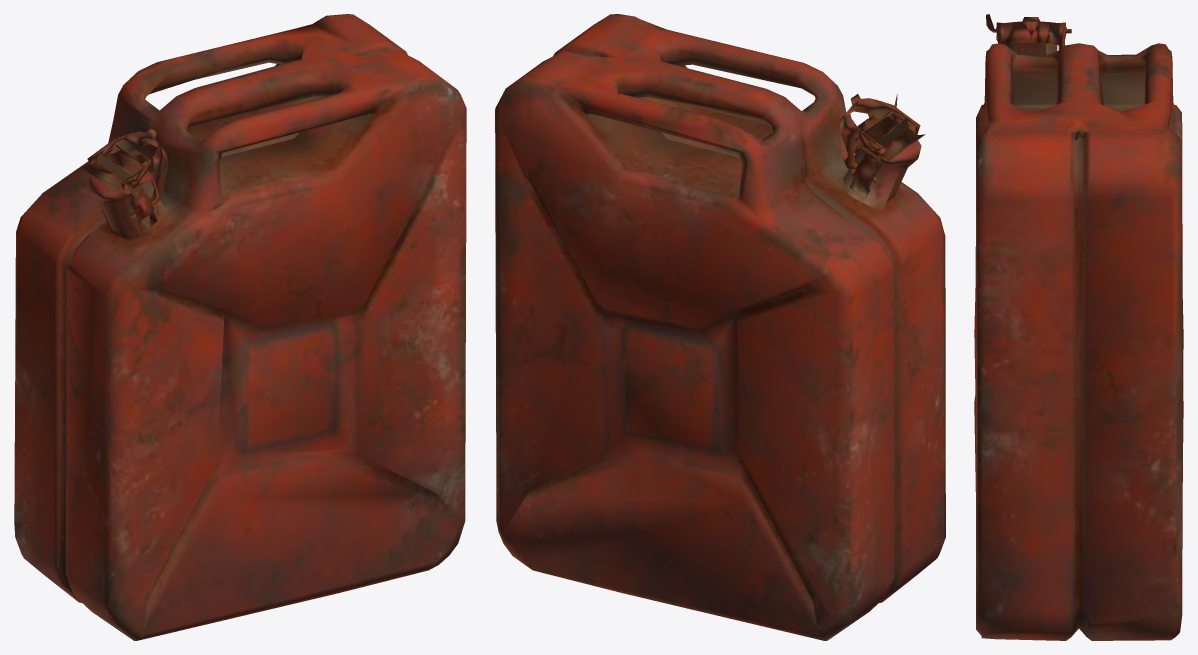
Rendered from jerrycan.glb.
3 renders of one model, left to right at view 1: azimuth 30°, elevation 25°; view 2: azimuth 150°, elevation 25°; view 3: azimuth 270°, elevation 25°, orthographic. The views are drawn at different scales.
Visible parts, largest first — view 1: metal_jerrycan; view 2: metal_jerrycan; view 3: metal_jerrycan.
Boxes of the visible parts, left/top/right/bottom form: metal_jerrycan: left=14, top=14, right=466, bottom=640; metal_jerrycan: left=495, top=14, right=945, bottom=640; metal_jerrycan: left=974, top=14, right=1183, bottom=640.
Bounding box in the file's own units: 0.349 × 0.4549 × 0.1718.
1 material, 1 textured.
